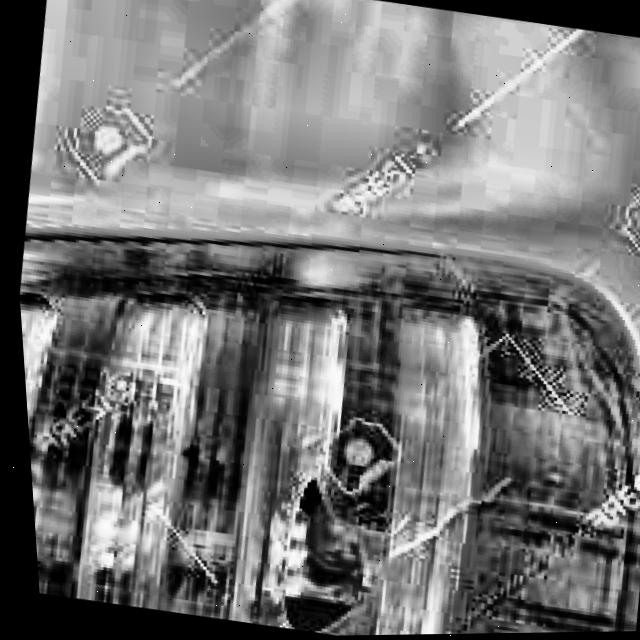tail_lamp: (235, 440, 403, 637)
